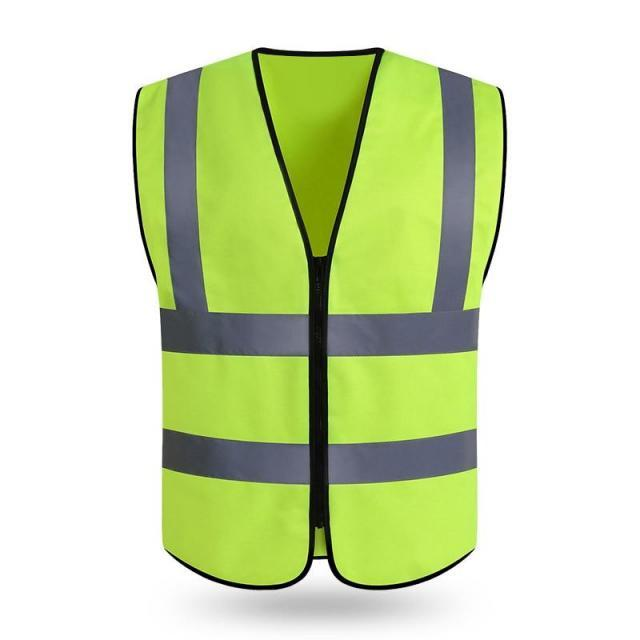reflective_jacket: (103, 34, 526, 608)
